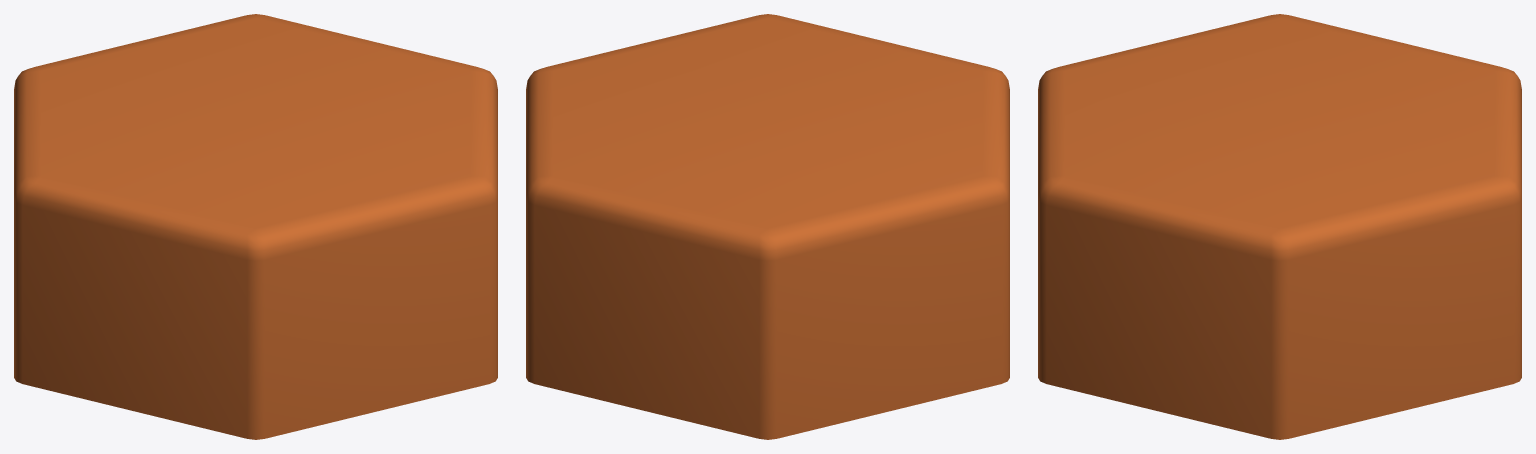
The model's file is Tile_Sandy_Ground.fbx.
3 renders of one model, left to right at view 1: azimuth 30°, elevation 25°; view 2: azimuth 150°, elevation 25°; view 3: azimuth 270°, elevation 25°, orthographic.
Visible parts, largest first — view 1: Tile_Sandy_Ground; view 2: Tile_Sandy_Ground; view 3: Tile_Sandy_Ground.
Boxes of the visible parts, box(x1,y1,x2,y2) form: Tile_Sandy_Ground: box(14, 14, 497, 439); Tile_Sandy_Ground: box(526, 14, 1009, 439); Tile_Sandy_Ground: box(1038, 14, 1521, 439).
Size of the model in its own units: 9302 by 3698 by 8129.
